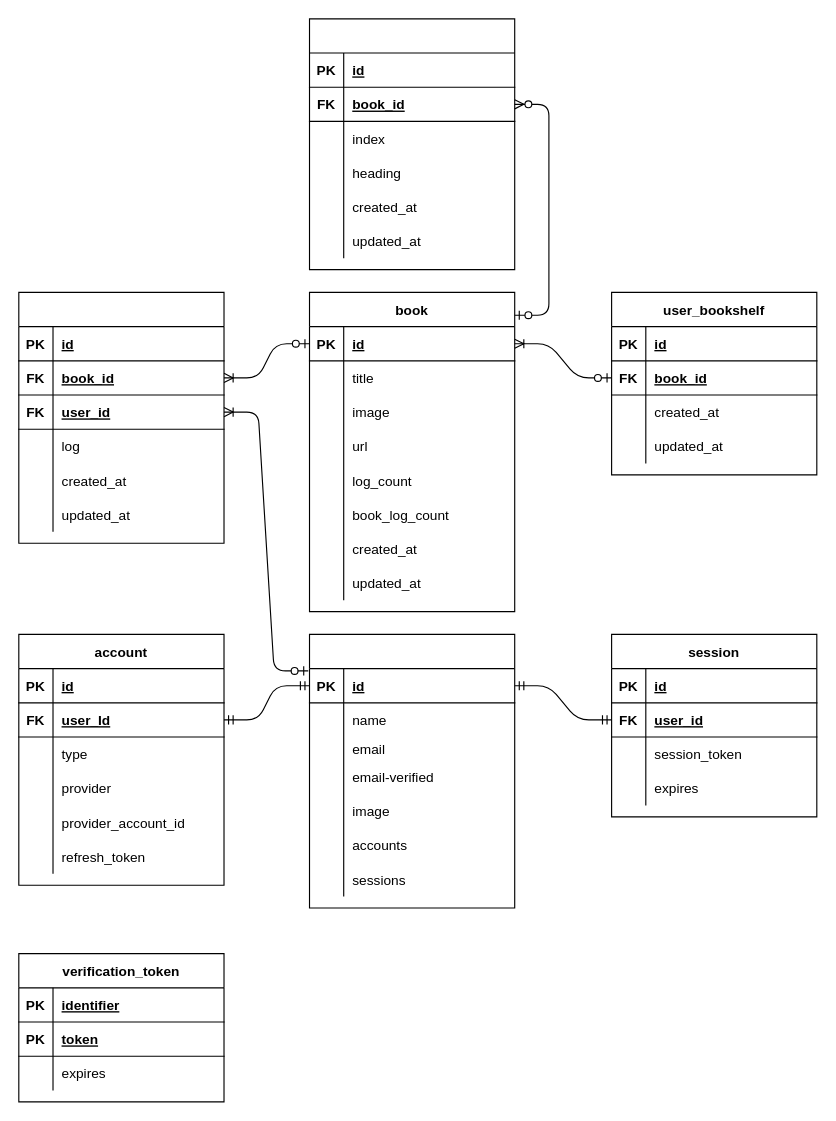
This 836x1121 diagram has some shape labels left out. Here are the shapes that lost their labels. From the top down, the box of each, then its label:
(308, 18, 515, 270): book_content
(18, 291, 224, 543): user_book_log
(308, 633, 515, 908): user
